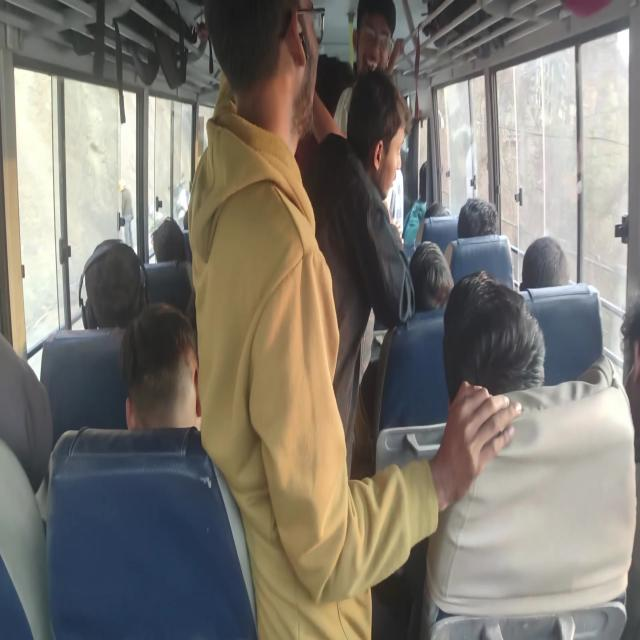person: (442, 268, 525, 461), (0, 371, 90, 518), (124, 303, 219, 436), (224, 3, 310, 131), (526, 232, 593, 318), (359, 95, 407, 207), (74, 237, 132, 324), (599, 318, 640, 440), (403, 237, 457, 315), (354, 0, 406, 71), (457, 197, 508, 256), (150, 210, 193, 266), (421, 159, 452, 199), (428, 196, 449, 234)
